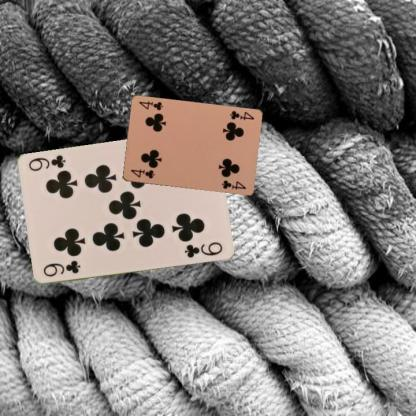4c: (128, 166, 155, 180), (227, 108, 255, 121)
9c: (40, 258, 81, 278)
